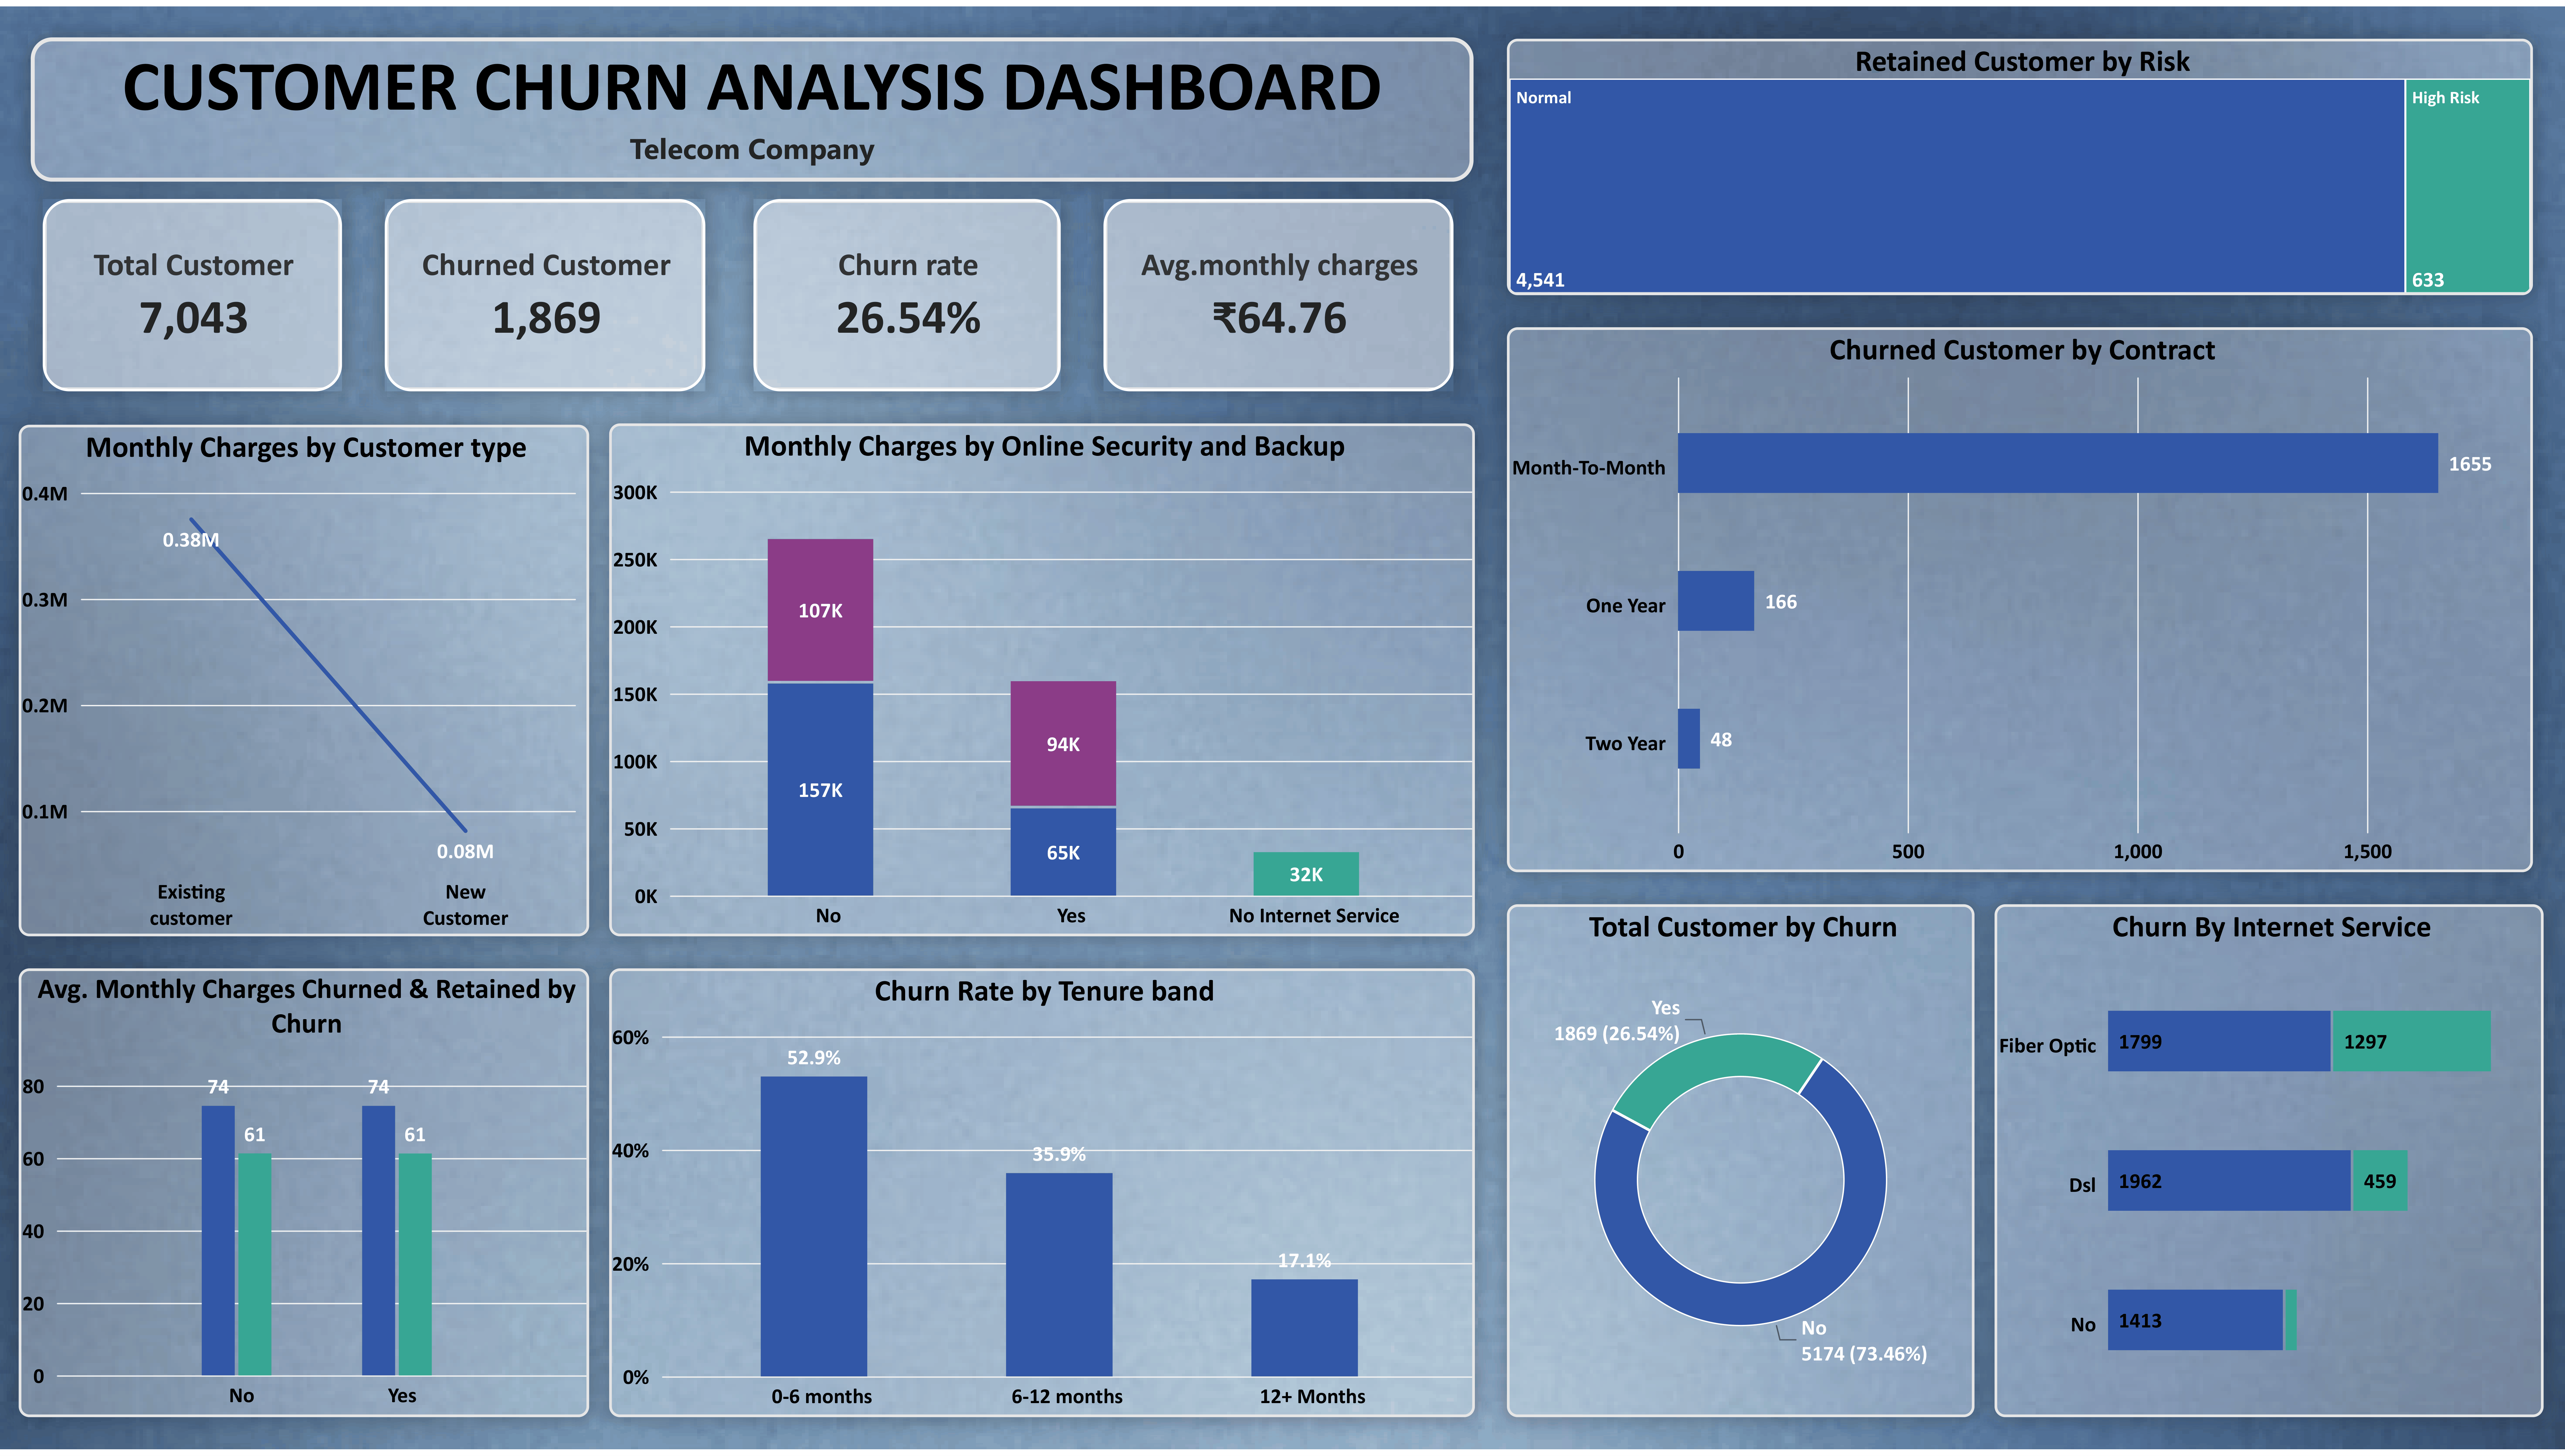

The dashboard page shown, as its layout file describes it:
{"tool":"powerbi","page":{"name":"Churn Analysis","canvas":[1920,1080],"ordinal":0},"visuals":[{"type":"textbox","box":[23.3,23.3,1080,108.3],"z":0},{"type":"cardVisual","fields":{"Data":["Calculated Measure.Churned Customer"]},"box":[288,144,240,144],"z":1000},{"type":"cardVisual","fields":{"Data":["Calculated Measure.Churn rate"]},"box":[564,144,230,144],"z":2000},{"type":"cardVisual","fields":{"Data":["Calculated Measure.Total Customer"]},"box":[32,144,224,144],"z":3000},{"type":"treemap","title":"Retained Customer by Risk","fields":{"Group":["Telecom_data.Risk"],"Values":["Calculated Measure.Retained Customer"]},"box":[1128,24,768,192],"z":4000},{"type":"barChart","fields":{"Category":["Telecom_data.Contract"],"Y":["Calculated Measure.Churned Customer"]},"box":[1128,240,768,408],"z":5000},{"type":"donutChart","fields":{"Category":["Telecom_data.Churn"],"Y":["Calculated Measure.Total Customer"]},"box":[1128,672,350,384],"z":6000},{"type":"columnChart","title":"Monthly Charges by Online Security and Backup","fields":{"Category":["Telecom_data.OnlineSecurity"],"Series":["Telecom_data.OnlineBackup"],"Y":["Sum(Telecom_data.MonthlyCharges)"]},"box":[456,312,648,384],"z":7000},{"type":"columnChart","title":"Churn Rate by Tenure band","fields":{"Category":["Telecom_data.Tenure band"],"Y":["Calculated Measure.Churn rate"]},"box":[456,720,648,336],"z":8000},{"type":"clusteredColumnChart","title":"Avg. Monthly Charges Churned & Retained by Churn","fields":{"Category":["Telecom_data.Churn"],"Y":["Calculated Measure.Avg.monthly charges Churned","Calculated Measure.Avg.monthly charges Retained"]},"box":[14.3,720,427.1,335.7],"z":9000},{"type":"lineChart","fields":{"Category":["Telecom_data.Customer type"],"Y":["Sum(Telecom_data.MonthlyCharges)"]},"box":[14.4,313.3,426.7,383.3],"z":10000},{"type":"cardVisual","fields":{"Data":["Calculated Measure.Avg.monthly charges"]},"box":[826,144,262,144],"z":11000},{"type":"barChart","title":"Churn By Internet Service ","fields":{"Category":["Telecom_data.InternetService"],"Series":["Telecom_data.Churn"],"Y":["CountNonNull(Telecom_data.CustomerID)"]},"box":[1493,672,411,384],"z":12000}]}

Visuals, with their boxes in screenshot pixels (x1, y1, x2, y2), scaled from the page's 1920x1080 canvas onto the 2565x1456 screenshot:
textbox: bbox=(31, 31, 1474, 177)
cardVisual - Calculated Measure.Churned Customer: bbox=(385, 194, 705, 388)
cardVisual - Calculated Measure.Churn rate: bbox=(753, 194, 1061, 388)
cardVisual - Calculated Measure.Total Customer: bbox=(43, 194, 342, 388)
"Retained Customer by Risk" treemap: bbox=(1507, 32, 2533, 291)
barChart - Telecom_data.Contract x Calculated Measure.Churned Customer: bbox=(1507, 323, 2533, 874)
donutChart - Telecom_data.Churn x Calculated Measure.Total Customer: bbox=(1507, 906, 1974, 1424)
"Monthly Charges by Online Security and Backup" columnChart: bbox=(609, 421, 1475, 938)
"Churn Rate by Tenure band" columnChart: bbox=(609, 971, 1475, 1424)
"Avg. Monthly Charges Churned & Retained by Churn" clusteredColumnChart: bbox=(19, 971, 590, 1423)
lineChart - Telecom_data.Customer type x Sum(Telecom_data.MonthlyCharges): bbox=(19, 423, 589, 939)
cardVisual - Calculated Measure.Avg.monthly charges: bbox=(1104, 194, 1453, 388)
"Churn By Internet Service " barChart: bbox=(1995, 906, 2544, 1424)
